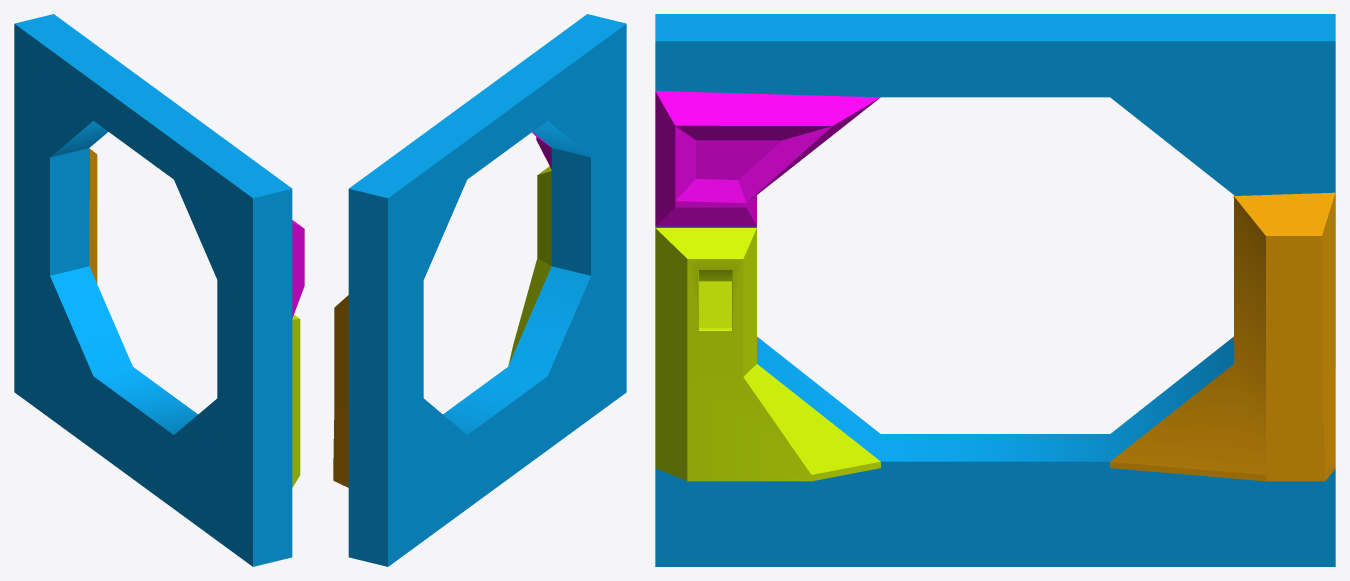
Rendered from MarcoPuerta.FBX.
The picture shows the model from 3 angles, left to right: view 1: azimuth 30°, elevation 25°; view 2: azimuth 150°, elevation 25°; view 3: azimuth 270°, elevation 25°; orthographic projection. The views are drawn at different scales.
Visible parts, largest first — view 1: DoorFrame, Object002, Object003, DoorFram5; view 2: DoorFrame, Object003, Object002; view 3: DoorFrame, Object003, Object002, DoorFram5.
Part boxes in pixels (x1,y1,x2,y2): DoorFrame: (14,14,292,566); Object002: (292,314,300,487); Object003: (89,148,97,283); DoorFram5: (292,220,304,318); DoorFrame: (348,14,626,566); Object003: (333,295,348,487); Object002: (508,166,551,365); DoorFrame: (655,14,1335,566); Object003: (1110,192,1335,481); Object002: (655,228,880,481); DoorFram5: (655,91,880,226).
Size of the model in its own units: 0.545 by 3.28 by 3.84.
